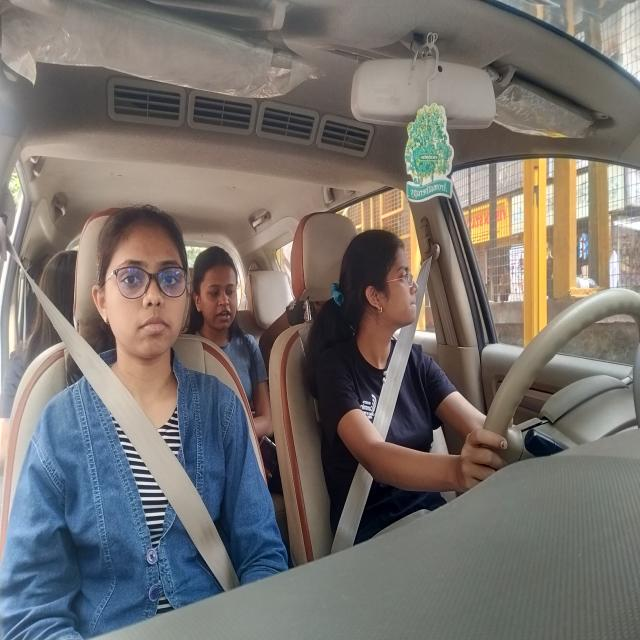LeftRight: (336, 223, 422, 356)
person: (96, 201, 191, 378), (195, 236, 241, 349)
